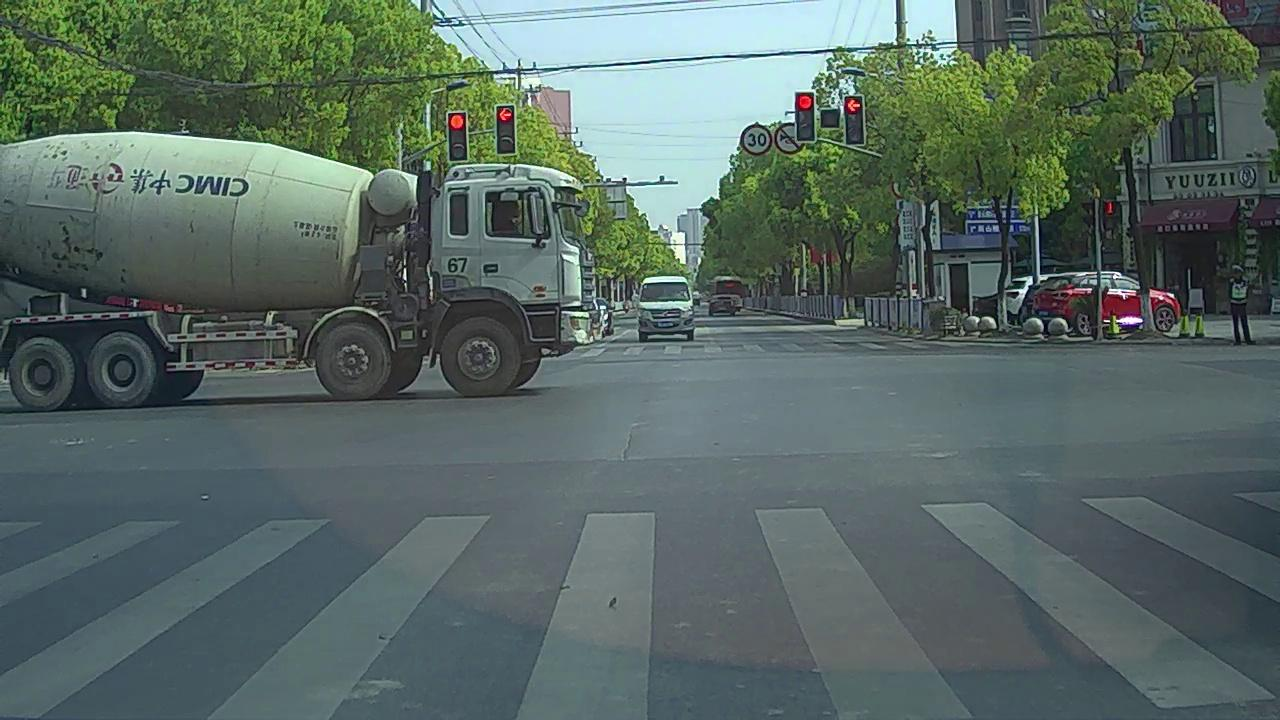traffic_light: (843, 96, 868, 147), (497, 104, 518, 157), (449, 110, 469, 163), (795, 92, 816, 140)
